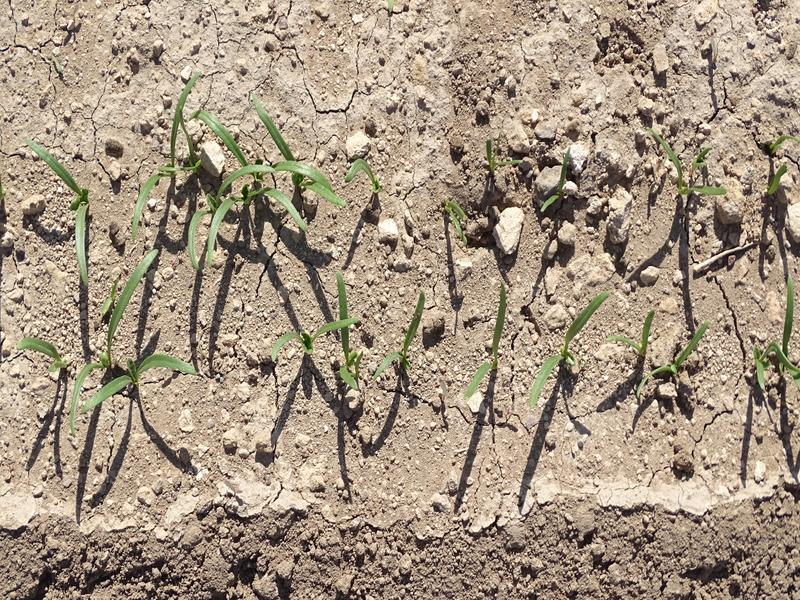Espinaca: (124, 89, 342, 254), (23, 313, 200, 428), (282, 273, 366, 390), (528, 289, 611, 404), (29, 139, 90, 284), (619, 315, 702, 395), (462, 284, 512, 395), (369, 291, 429, 380), (645, 134, 728, 198), (754, 279, 795, 389), (539, 154, 571, 215)
